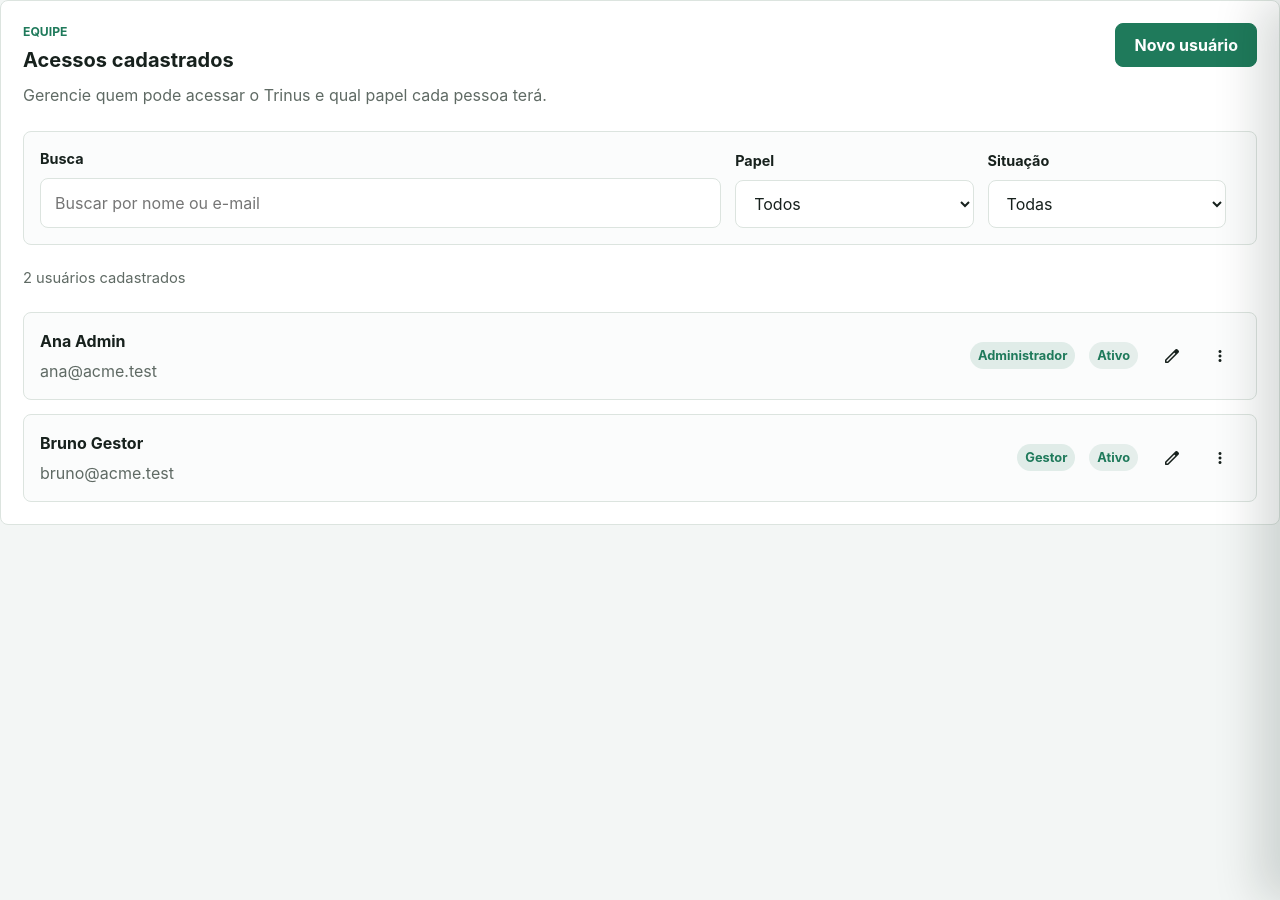
Test case: UsersPageComponent › abre o menu de acoes do usuario
Click the button named "Mais opções" in the row of "Administrador". click: (1220, 356)
box: x1=1200 y1=336 x2=1240 y2=376
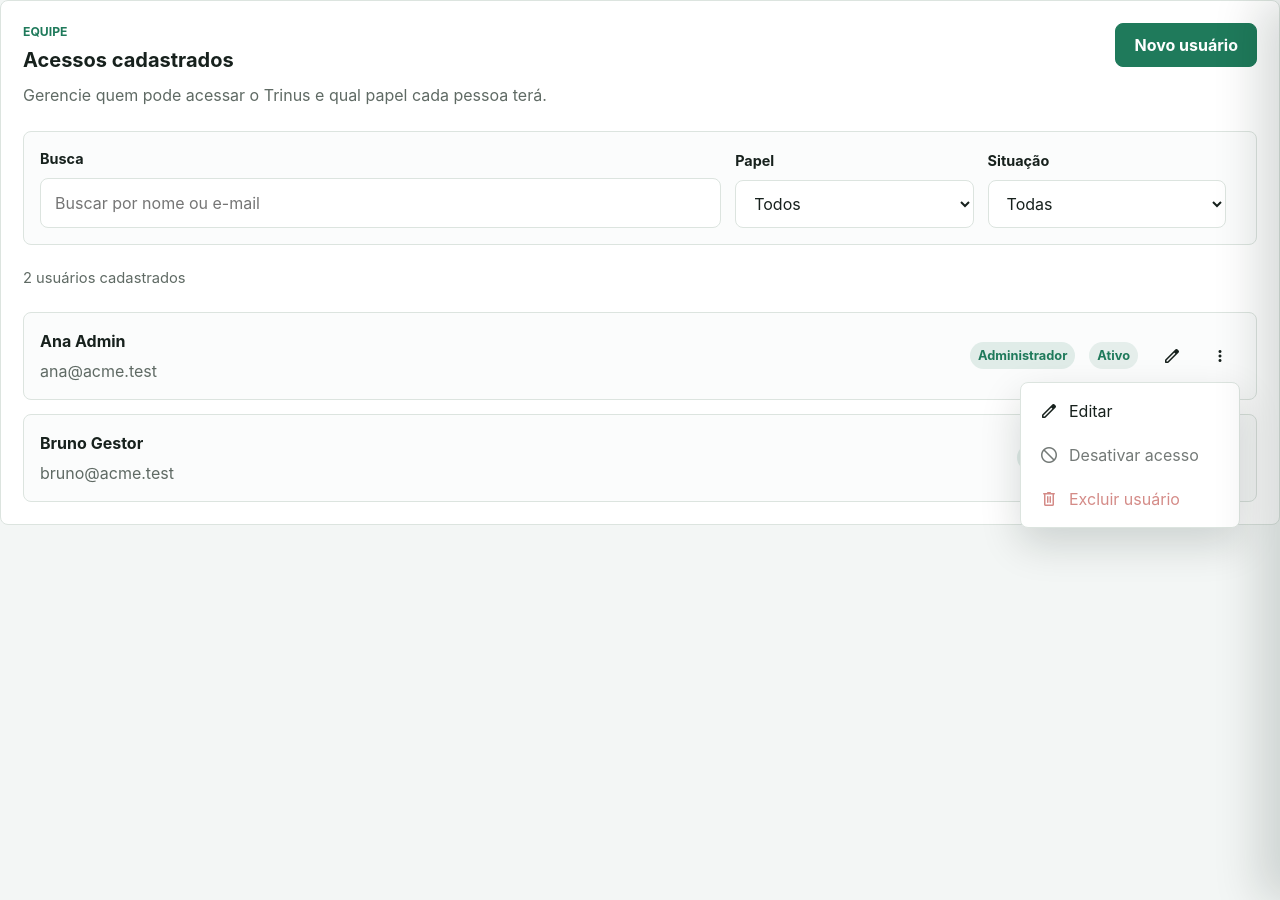
Expected: the text "Desativar acesso" is shown, x1=1029 y1=434 x2=1231 y2=474
Expected: the text "Excluir usuário" is shown, x1=1029 y1=478 x2=1231 y2=518
